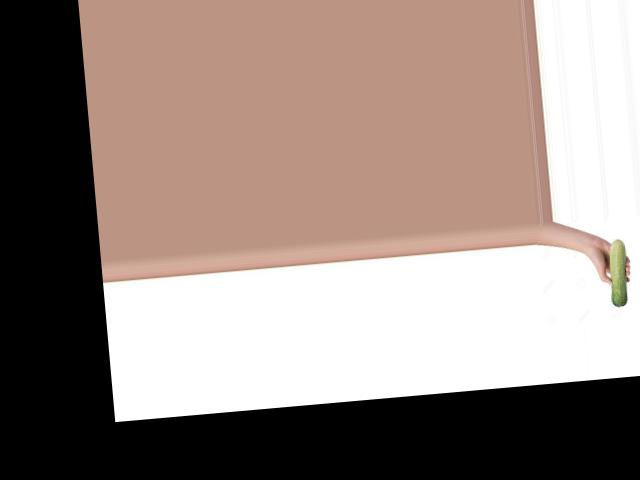cucumber: (605, 238, 629, 308)
